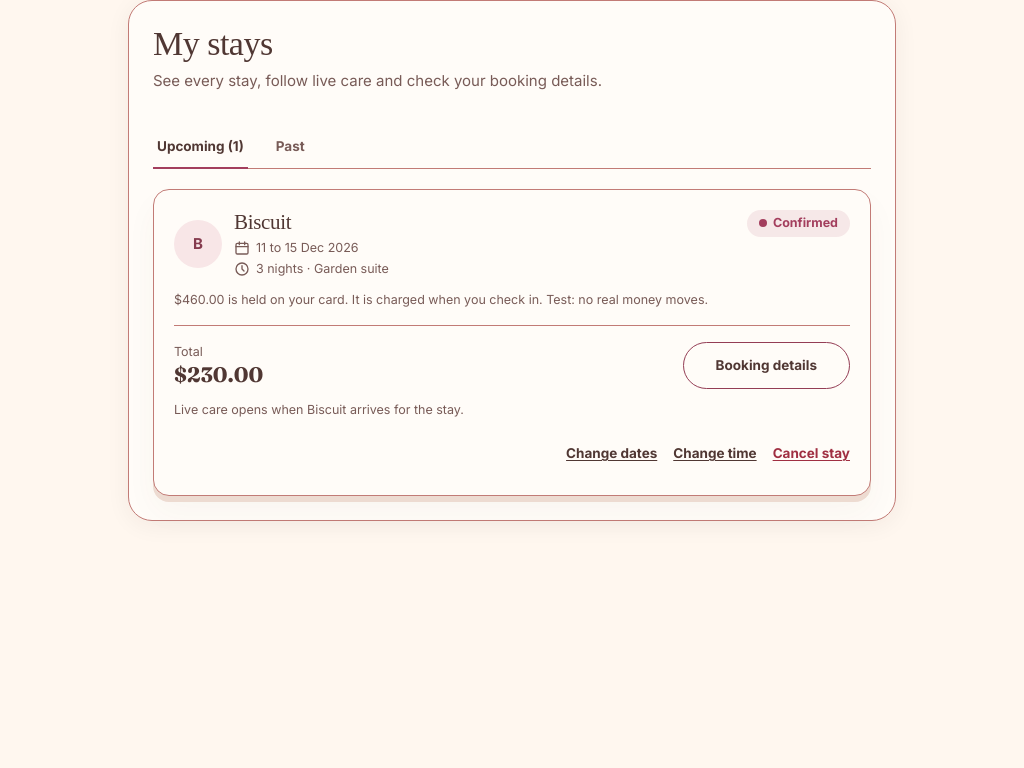
Test: My Stays with a saved card › offers the same changes from the booking details, then opens the dialog
Step 1. Click the button "Booking details" → (766, 365), box [683,342,850,389]
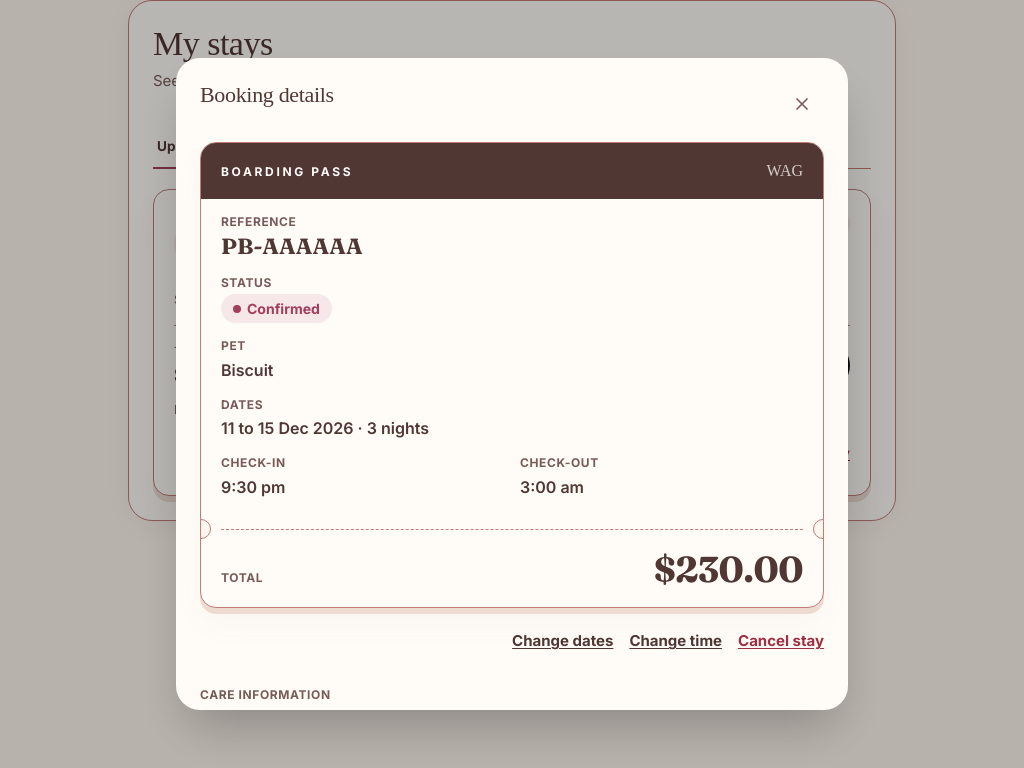
Step 2. Click the button "Cancel stay" → (781, 642), box [738,620,824,664]
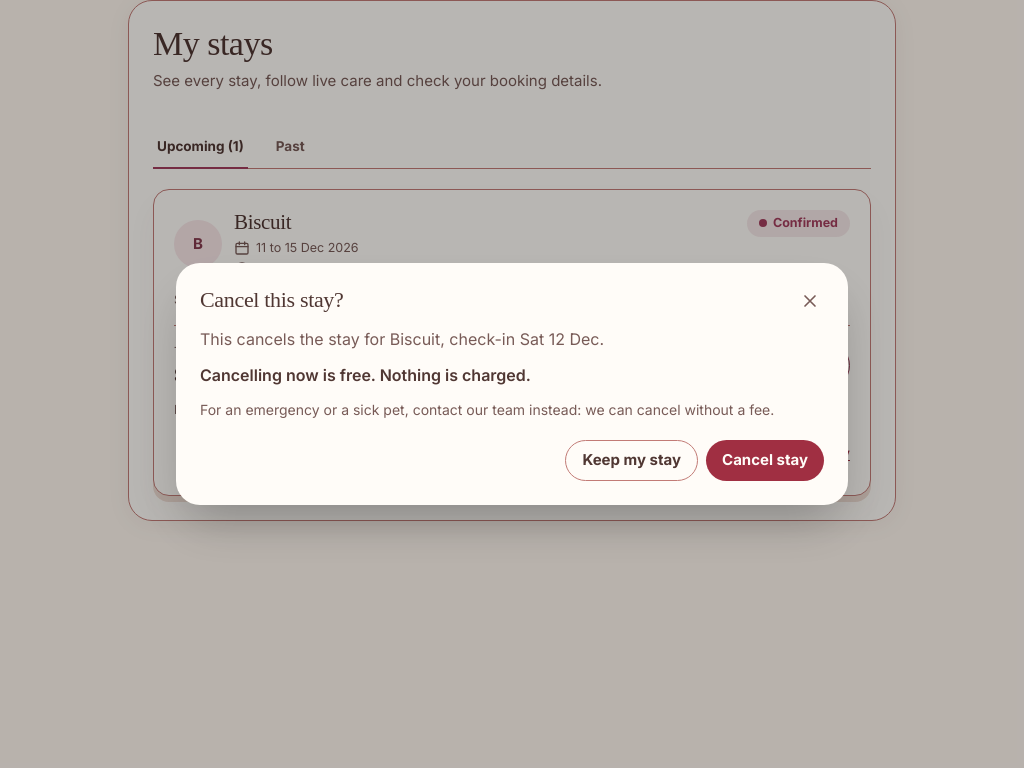
Now the dialog "Cancel this stay?" is shown, box [176,263,848,505]
